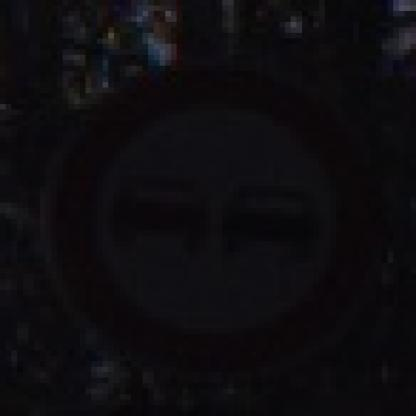No Overtaking: (35, 39, 383, 384)
